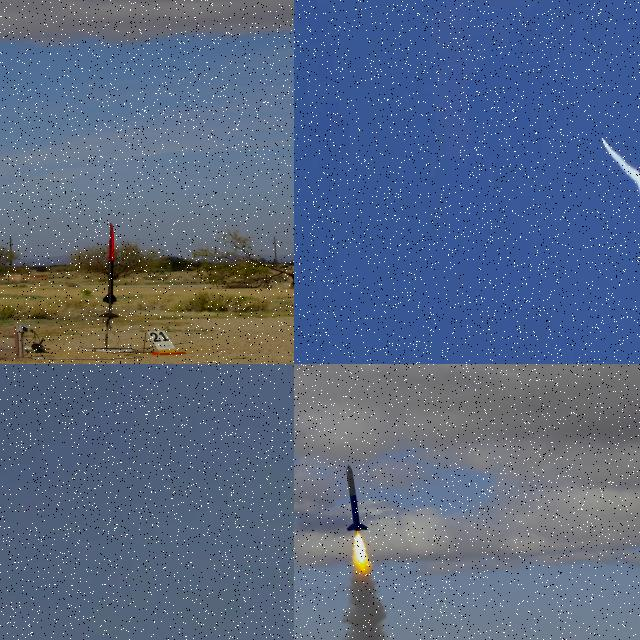Rocket: (346, 464, 368, 532), (103, 222, 117, 306), (599, 134, 603, 140)
